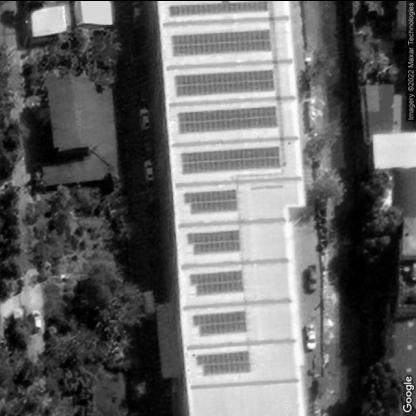solar-pv-panel: (175, 67, 277, 98), (179, 145, 280, 173), (172, 26, 272, 54), (177, 105, 278, 131), (169, 0, 268, 16), (190, 268, 244, 297), (192, 307, 247, 335), (196, 349, 250, 376), (187, 227, 238, 255), (184, 188, 238, 212)
